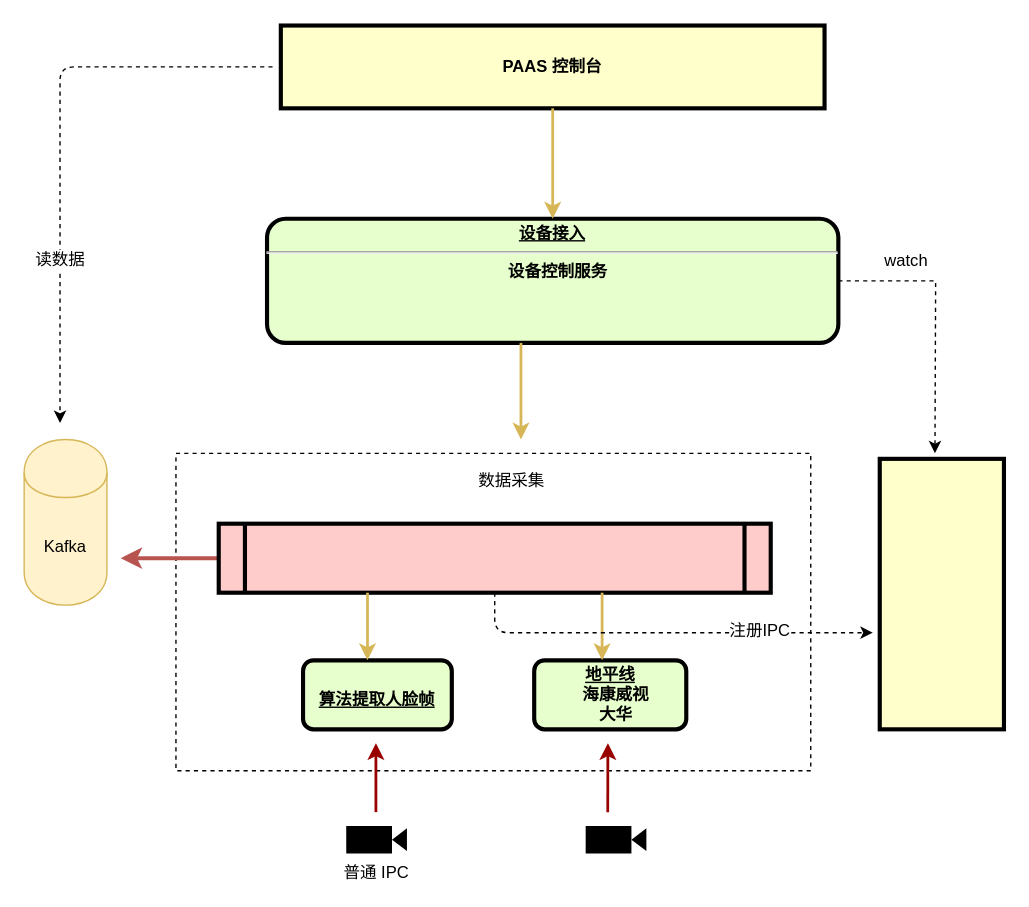
This 1029x907 diagram has some shape labels left out. Each missing label, with the centre of its shape:
"zookeeper" goes at (x=941, y=593).
"接入控制（Scheduler）" goes at (x=494, y=557).
"智能 IPC" goes at (x=615, y=839).
